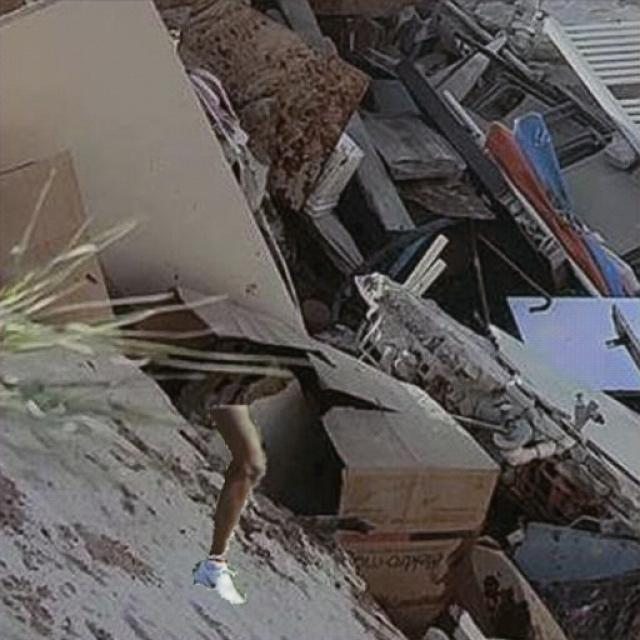Person in Rubble: (192, 405, 266, 604)
